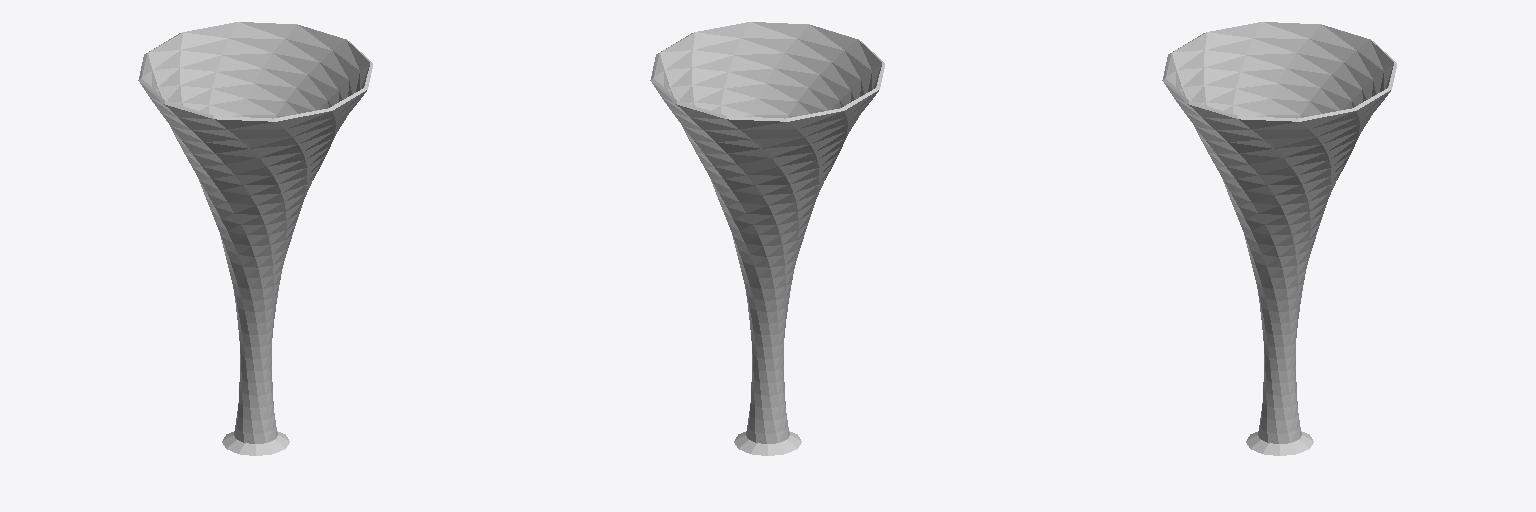
File: goal.obj
The picture shows the model from 3 angles: view 1: azimuth 30°, elevation 25°; view 2: azimuth 150°, elevation 25°; view 3: azimuth 270°, elevation 25°; orthographic projection.
Parts seen in each view (by area): view 1: goal_goal-base; view 2: goal_goal-base; view 3: goal_goal-base.
Part boxes in pixels (x1,y1,x2,y2): goal_goal-base: (138,22,372,455); goal_goal-base: (650,22,884,455); goal_goal-base: (1162,22,1396,455).
Bounding box in the file's own units: 35.01 × 61.04 × 35.01.